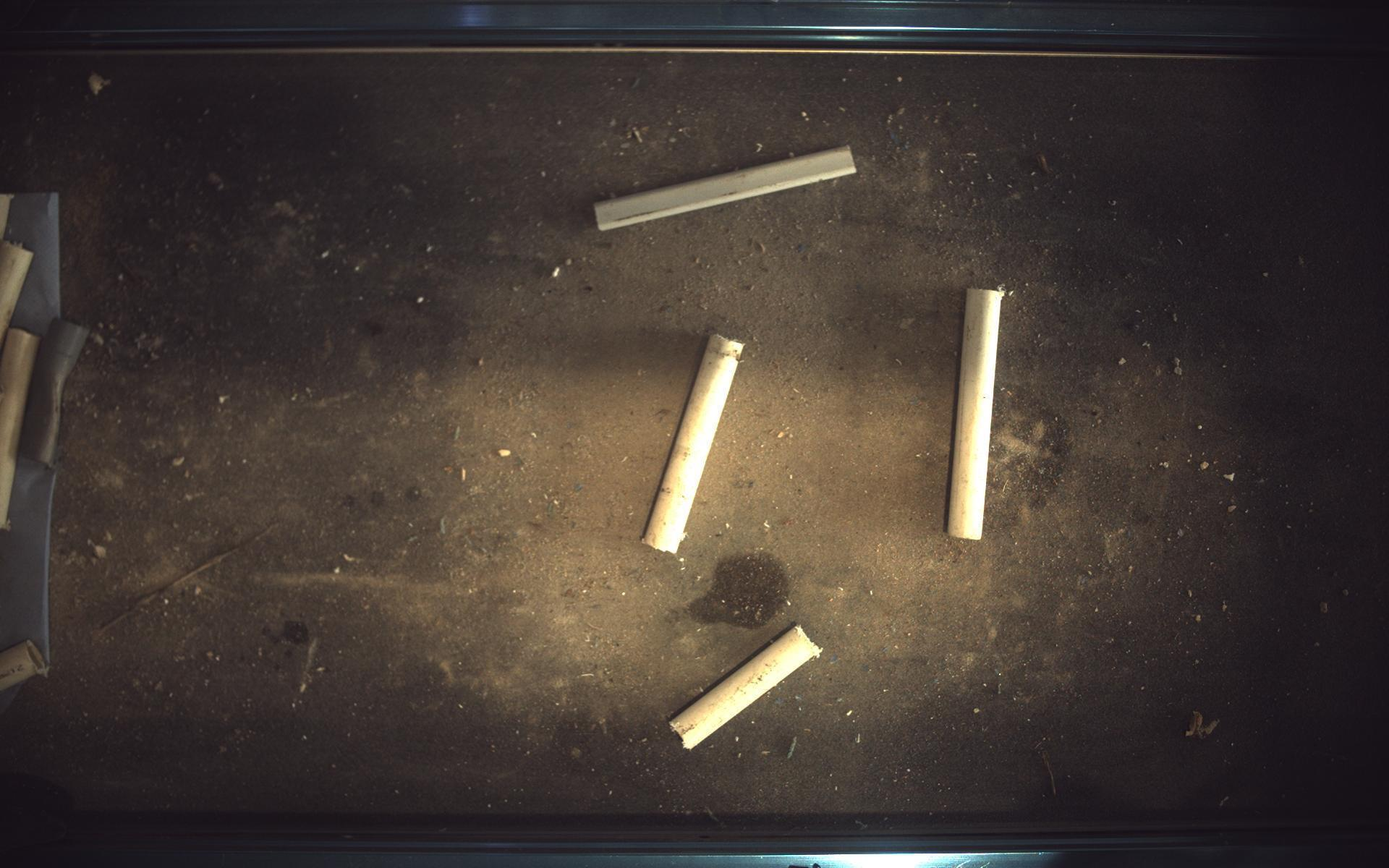pipes: (643, 334, 744, 554), (671, 626, 823, 750), (949, 288, 1006, 540)
plastic: (595, 145, 858, 230)
